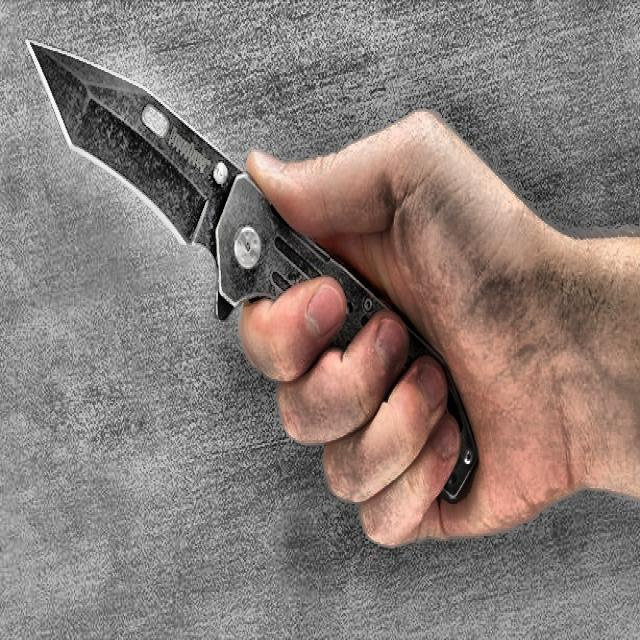knife: (28, 42, 477, 502)
